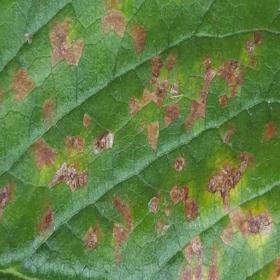Angular Leafspot: (0, 0, 279, 279)
